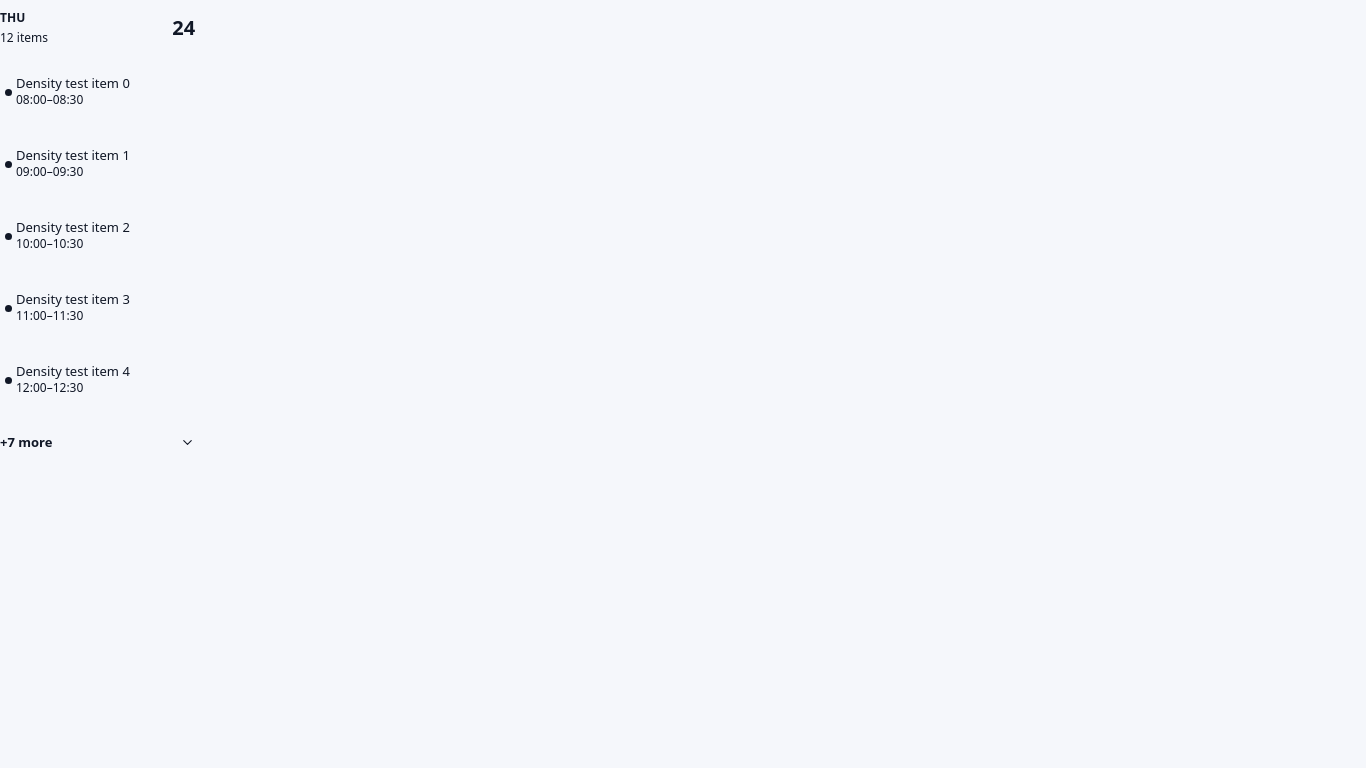
Test: Week board overflow › opens the original record, without manufacturing another business record
The image size is (1366, 768).
Click the button with test id "week-day-more".
click(98, 442)  # box [0,420,195,464]
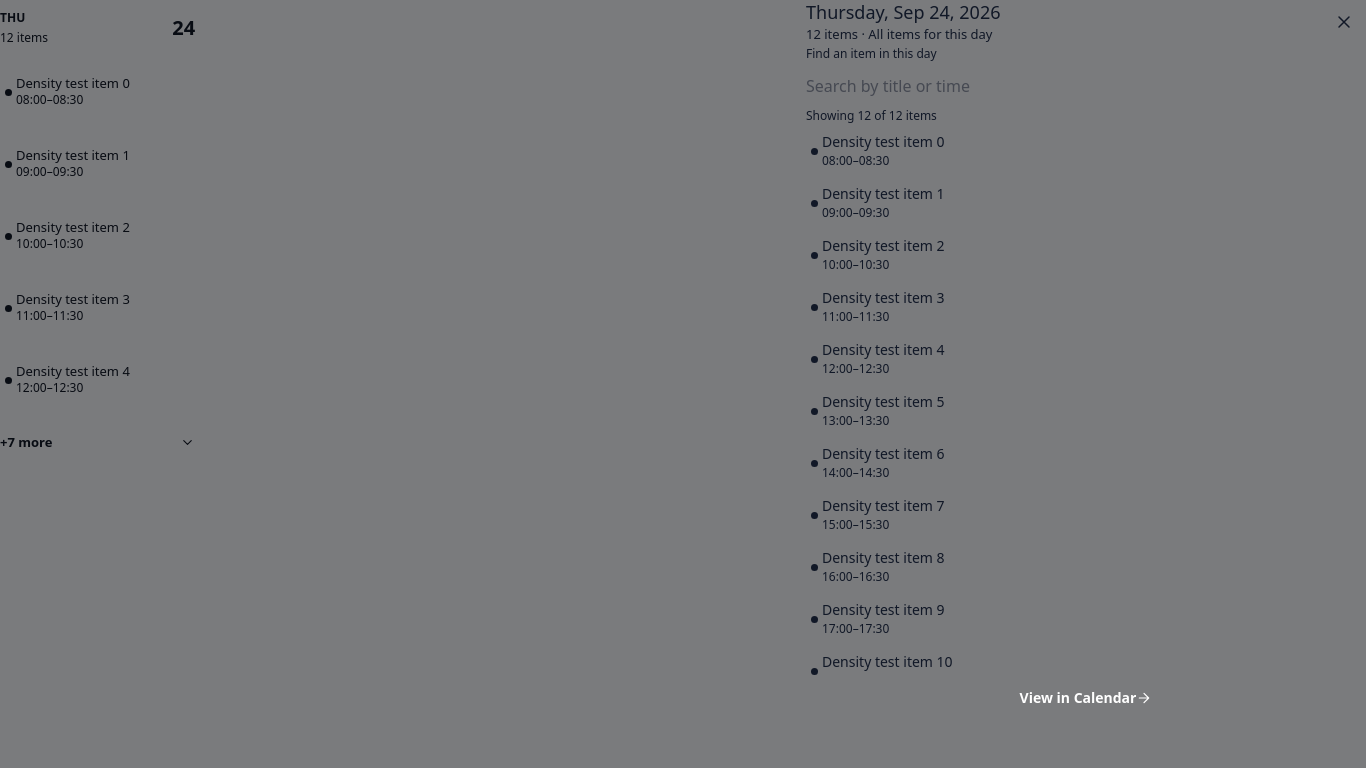
Click the button with aria-label "Open: Density test item 9.".
click(883, 610)  # box [806,593,1356,645]
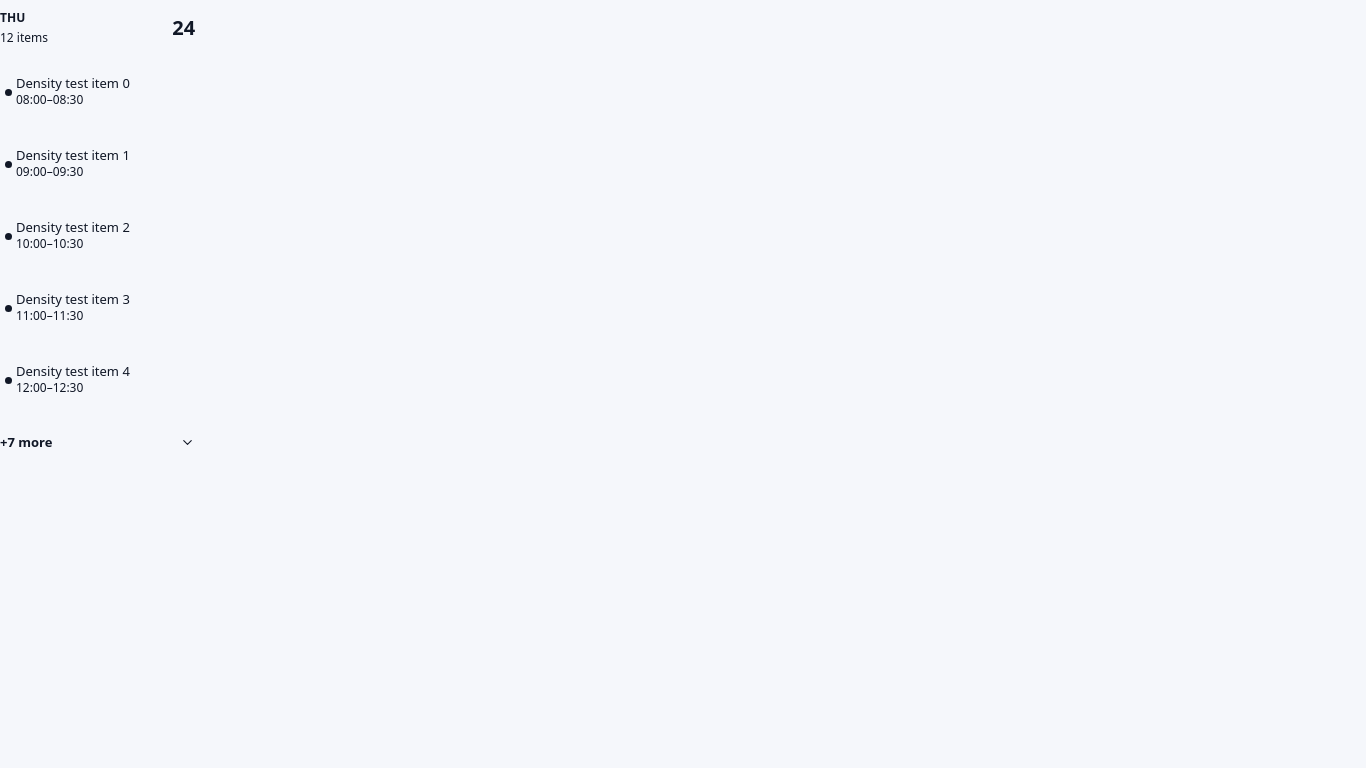
Check: the dialog with test id "week-day-dialog" is gone
